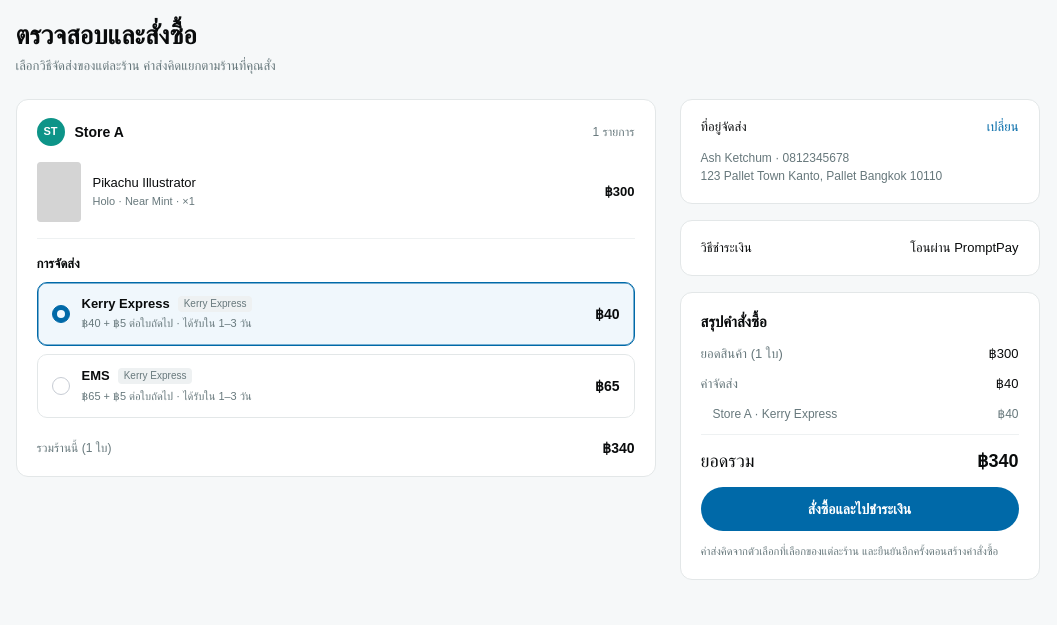
Test: CheckoutPage › blocks a seller that becomes unavailable after checkout fails
Click the button "สั่งซื้อและไปชำระเงิน": (860, 509) [700, 487, 1018, 531]
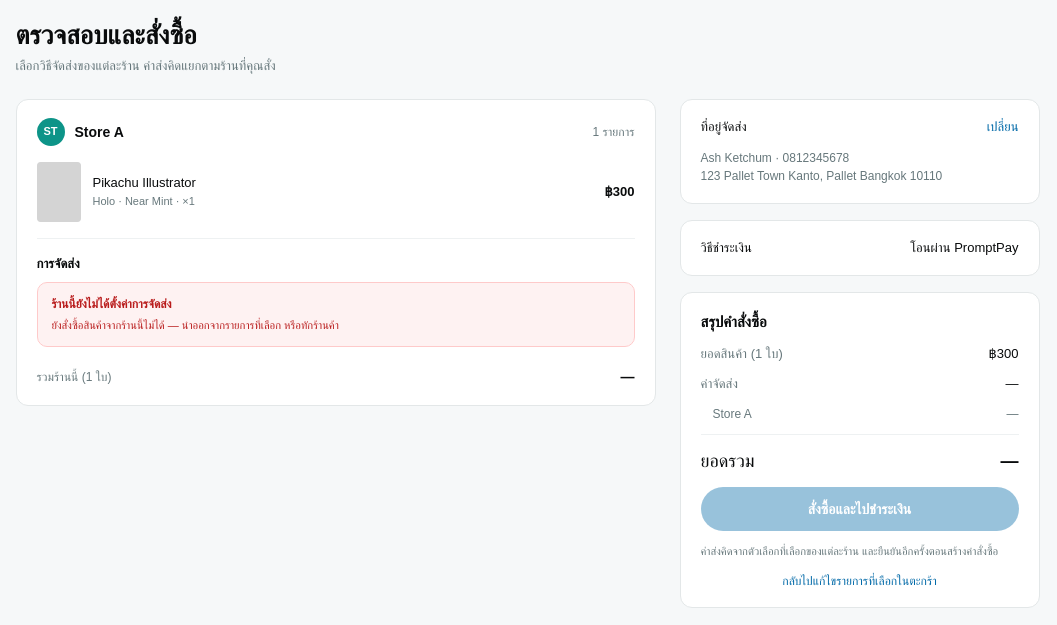
Result: the text "ร้านนี้ยังไม่ได้ตั้งค่าการจัดส่ง" is shown at [52, 297, 172, 311]
Result: the button "สั่งซื้อและไปชำระเงิน" is disabled at [700, 487, 1018, 531]
